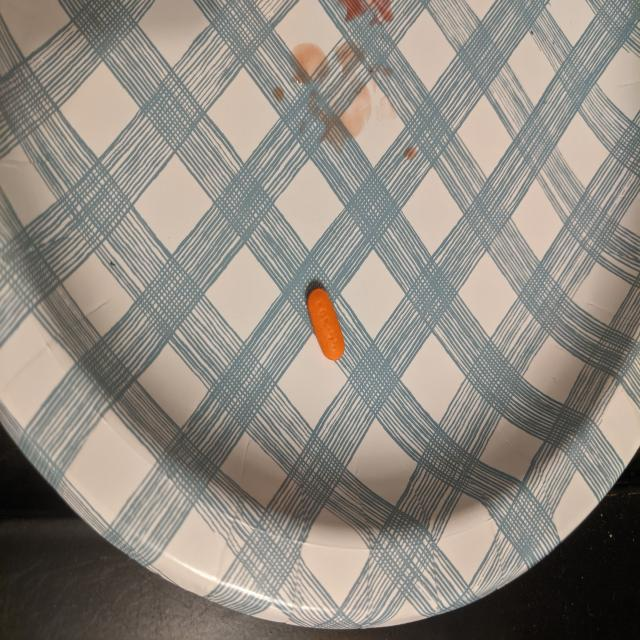non-organic waste: (306, 287, 345, 362)
